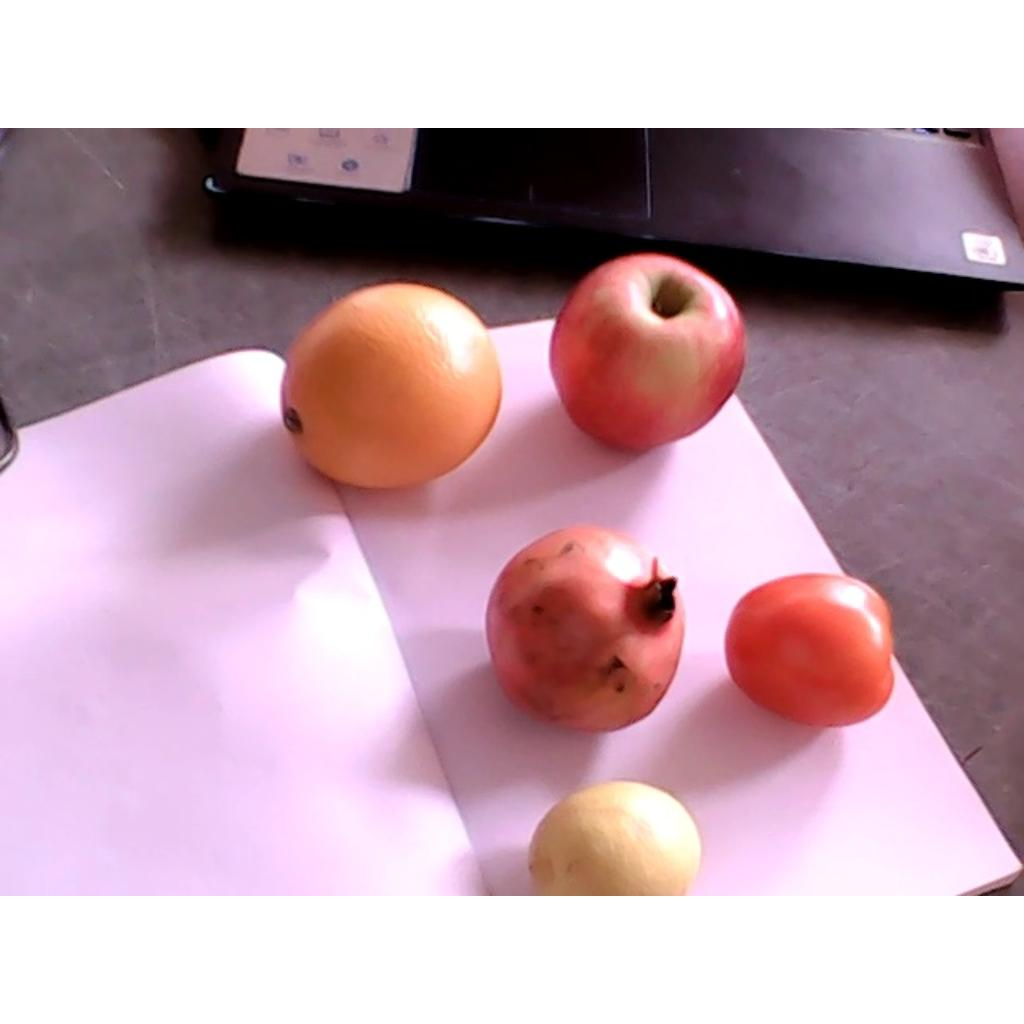apple: (549, 252, 746, 451)
lemon: (528, 783, 701, 894)
orange: (279, 283, 501, 490)
pomegranate: (486, 524, 686, 729)
tomato: (723, 572, 894, 726)
